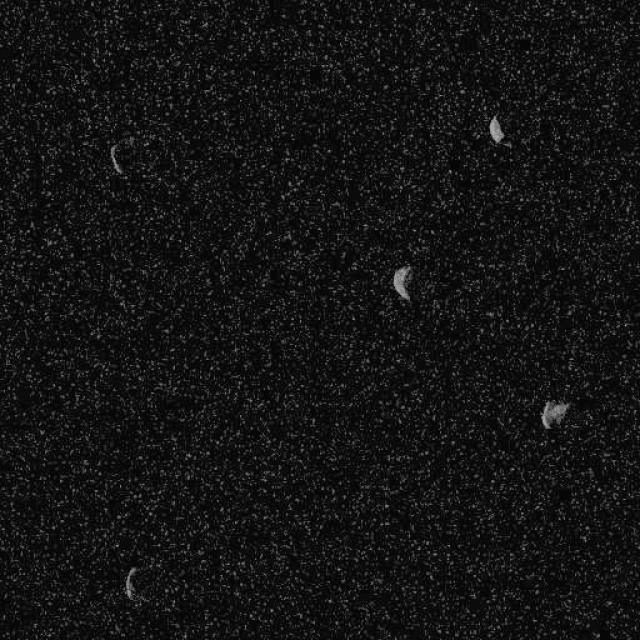D2: (122, 565, 146, 604), (539, 399, 569, 430), (488, 114, 512, 148), (392, 264, 412, 301), (107, 141, 125, 175)
